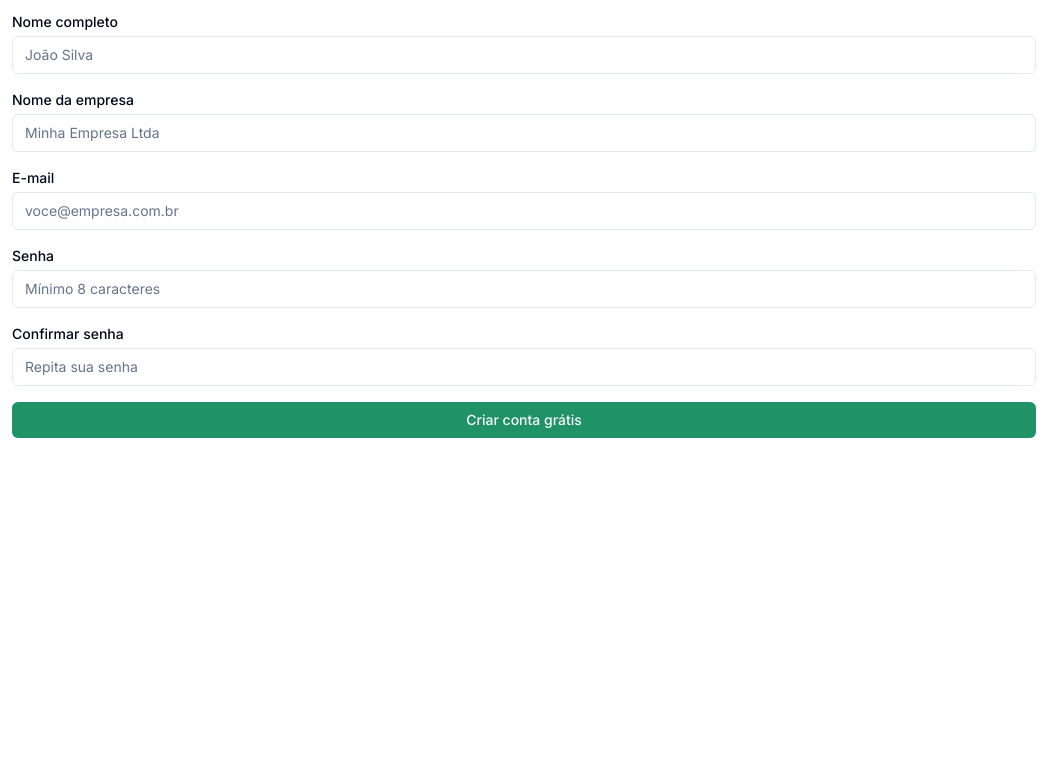
RegisterForm › exibe erro quando nome tem menos de 2 caracteres
Step 1. Type "J" into the field labelled "Nome completo" → (524, 55), box [12,36,1036,74]
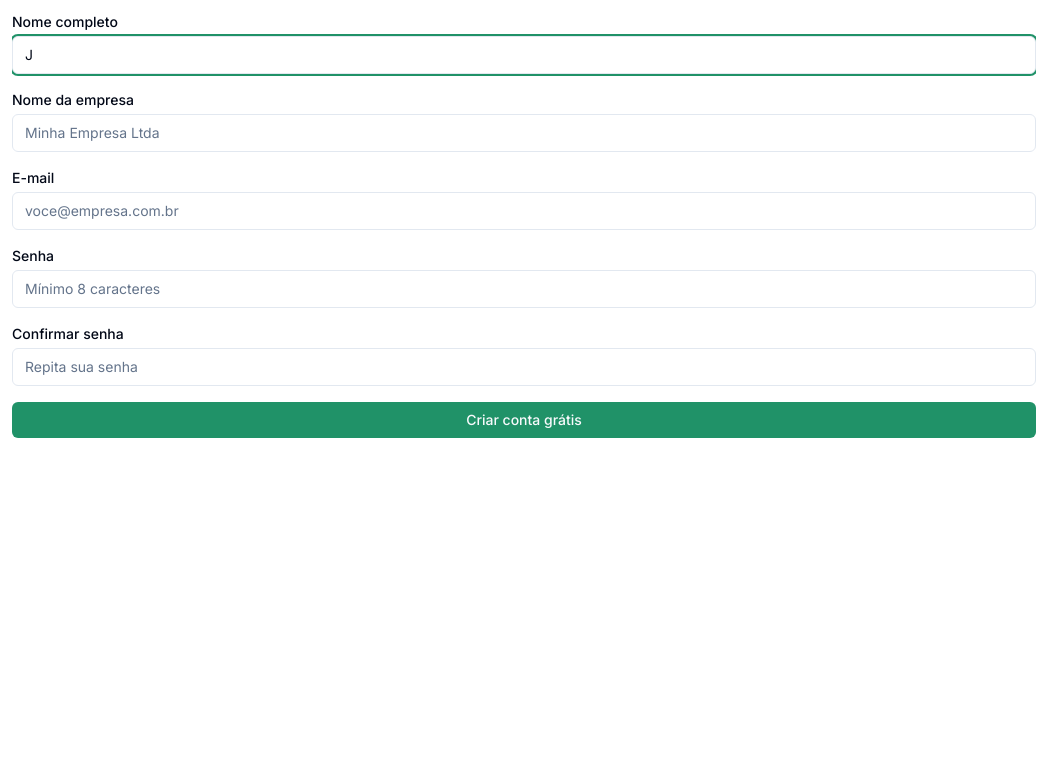
Step 2. Click the button "Criar conta grátis" → (524, 420), box [12,402,1036,438]
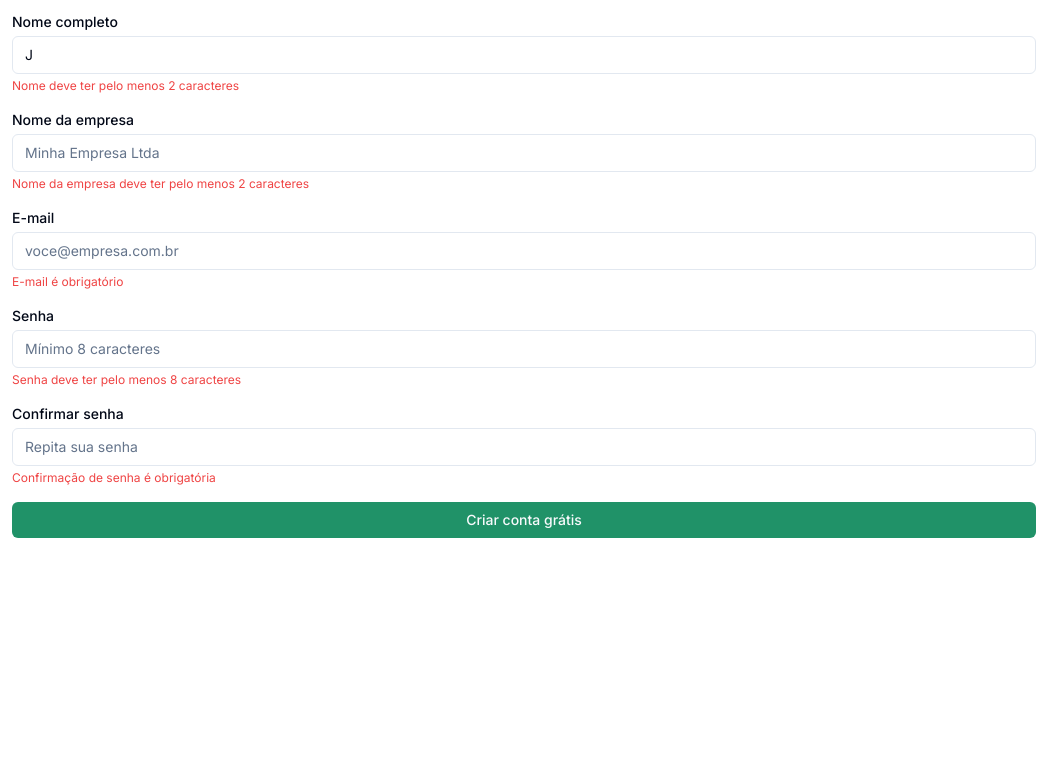
Expected: the text "Nome deve ter pelo menos 2 caracteres" is shown, [12,78,239,93]
